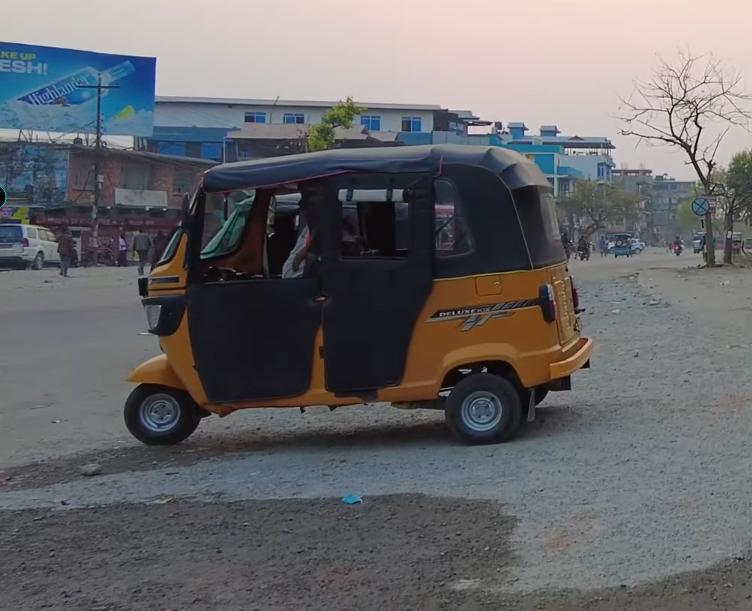SUV: (0, 222, 66, 274)
auto_rickshaw: (115, 137, 595, 454)
